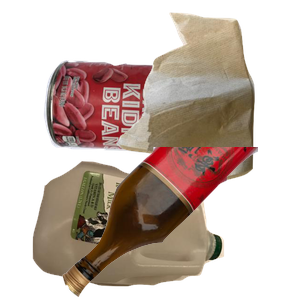glass: (60, 147, 300, 300)
metal: (41, 58, 240, 207)
plastic: (30, 159, 247, 300)
trash: (114, 10, 300, 189)
